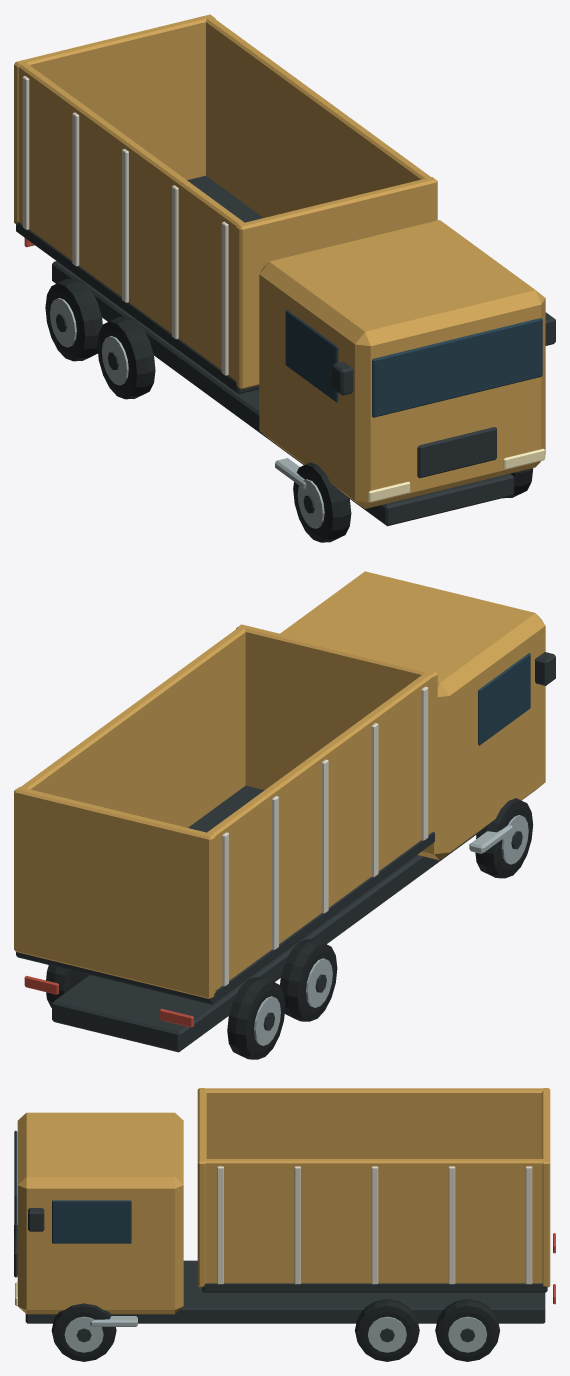
File: truck-dump-07.glb
3 views of the same model, one above another, from view 1: azimuth 30°, elevation 25°; view 2: azimuth 150°, elevation 25°; view 3: azimuth 270°, elevation 25° (orthographic). The views are drawn at different scales.
Visible parts, largest first — view 1: Cab, BedWall, BedWall.001, BedEnd.001, BedEnd, Glass_Windscreen, Chassis, BedFloor, CabWindow, Tyre_RR, Tyre_2R, Grille (+10 smaller); view 2: BedEnd.001, BedWall, Cab, BedWall.001, BedEnd, Chassis, BedFloor, CabWindow, Tyre_2R, Tyre_RR, Tyre_FR, BedRib (+10 smaller); view 3: BedWall.001, Cab, BedWall, Chassis, CabWindow.001, BedFloor, Tyre_2L, Tyre_RL, BedEnd, BedEnd.001, Tyre_FL, Rim_RL (+10 smaller).
Boxes of the visible parts, left/top/right/bottom form: Cab: left=259, top=220, right=545, bottom=508; BedWall: left=19, top=61, right=244, bottom=380; BedWall.001: left=206, top=16, right=431, bottom=217; BedEnd.001: left=14, top=14, right=215, bottom=224; BedEnd: left=236, top=177, right=437, bottom=389; Glass_Windscreen: left=372, top=318, right=542, bottom=417; Chassis: left=52, top=261, right=514, bottom=526; BedFloor: left=16, top=175, right=263, bottom=394; CabWindow: left=285, top=310, right=338, bottom=402; Tyre_RR: left=97, top=316, right=155, bottom=399; Tyre_2R: left=45, top=278, right=102, bottom=361; Grille: left=417, top=427, right=496, bottom=478; BedEnd.001: left=14, top=787, right=215, bottom=999; BedWall: left=207, top=672, right=432, bottom=990; Cab: left=280, top=571, right=545, bottom=860; BedWall.001: left=19, top=627, right=245, bottom=827; BedEnd: left=236, top=624, right=437, bottom=834; Chassis: left=52, top=834, right=476, bottom=1052; BedFloor: left=16, top=785, right=434, bottom=1004; CabWindow: left=478, top=653, right=530, bottom=745; Tyre_2R: left=227, top=977, right=285, bottom=1059; Tyre_RR: left=280, top=939, right=337, bottom=1021; Tyre_FR: left=475, top=798, right=533, bottom=878; BedRib: left=421, top=686, right=428, bottom=840; BedWall.001: left=204, top=1159, right=545, bottom=1283; Cab: left=17, top=1112, right=183, bottom=1314; BedWall: left=204, top=1088, right=544, bottom=1158; Chassis: left=25, top=1260, right=545, bottom=1323; CabWindow.001: left=52, top=1200, right=131, bottom=1243; BedFloor: left=202, top=1283, right=547, bottom=1292; Tyre_2L: left=435, top=1299, right=499, bottom=1361; Tyre_RL: left=355, top=1299, right=419, bottom=1361; BedEnd: left=197, top=1088, right=206, bottom=1287; BedEnd.001: left=541, top=1088, right=550, bottom=1287; Tyre_FL: left=51, top=1303, right=116, bottom=1361; Rim_RL: left=367, top=1316, right=406, bottom=1352.
Bounding box in the file's own units: 2.61 × 3 × 7.34.
